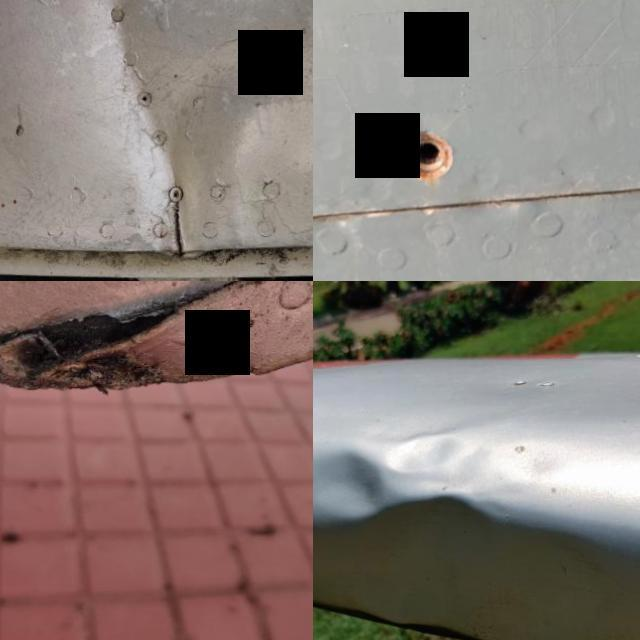Crack: (0, 281, 190, 400), (150, 196, 202, 266)
Dent: (313, 404, 562, 640)
Missing_Fastener: (362, 98, 492, 221)
